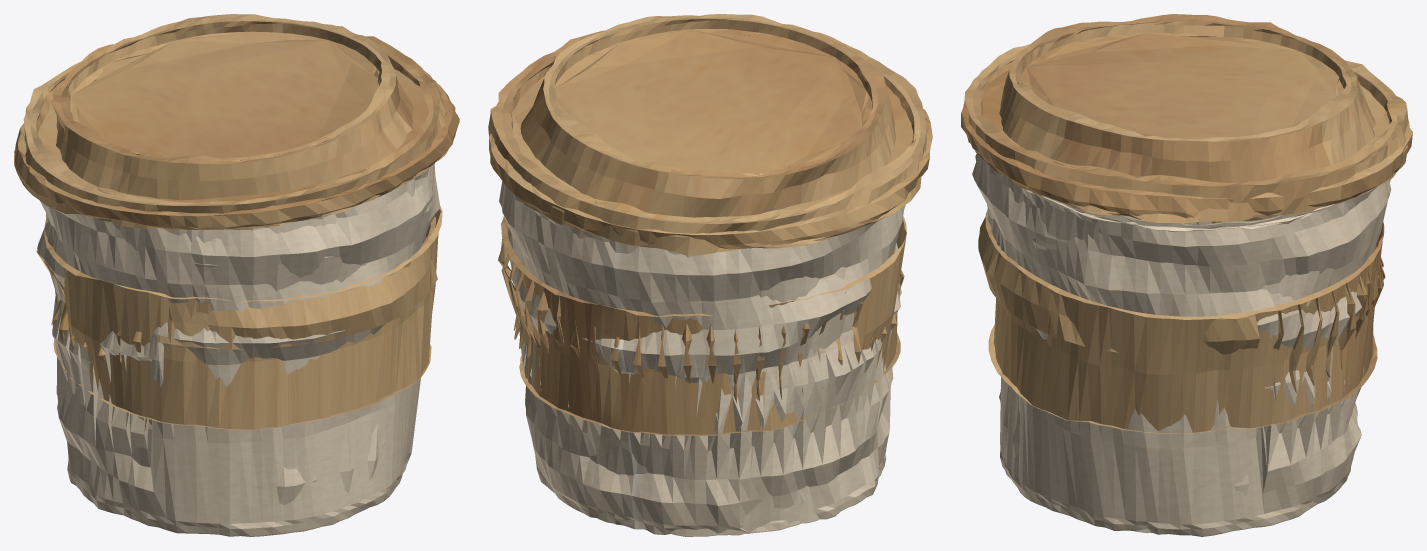
File: crush_medium_0.obj
3 views of the same model, side by side, from view 1: azimuth 30°, elevation 25°; view 2: azimuth 150°, elevation 25°; view 3: azimuth 270°, elevation 25° (orthographic).
Visible parts, largest first — view 1: model; view 2: model; view 3: model.
Part boxes in pixels (bbox=[...]): model: bbox=[14, 14, 459, 536]; model: bbox=[488, 14, 932, 536]; model: bbox=[961, 14, 1412, 536].
Bounding box in the file's own units: 0.0697 × 0.0662 × 0.0686.
1 material, 1 textured.
